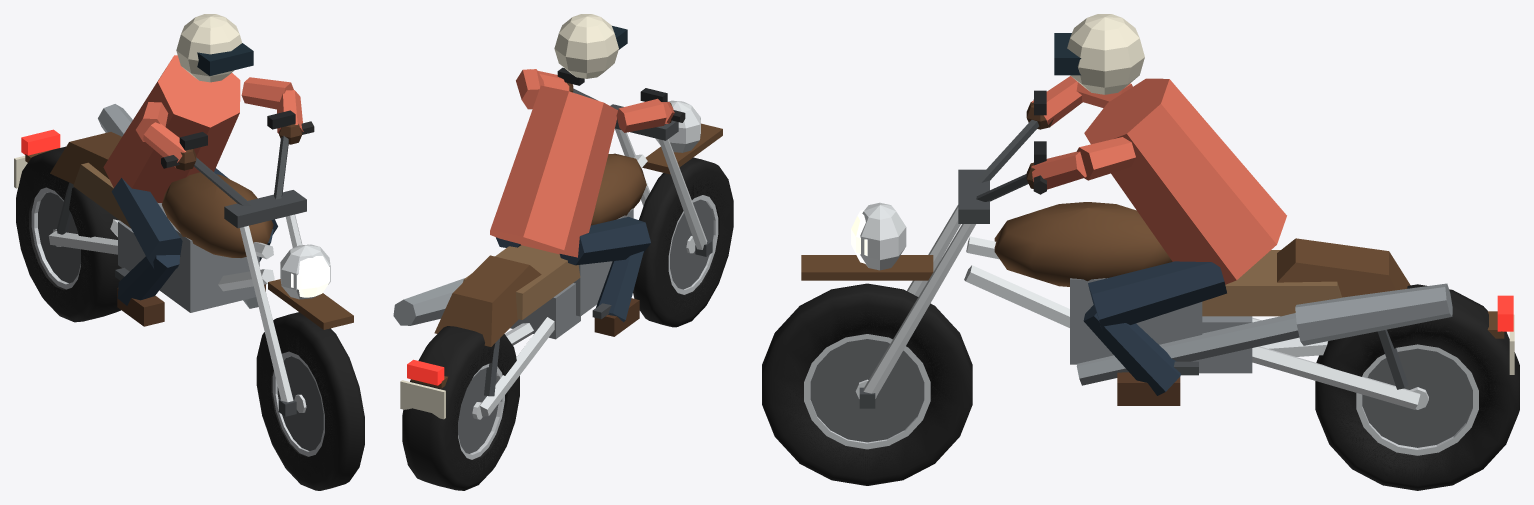
Rendered from oak-cruiser.glb.
3 views of the same model, side by side, from view 1: azimuth 30°, elevation 25°; view 2: azimuth 150°, elevation 25°; view 3: azimuth 270°, elevation 25° (orthographic). The views are drawn at different scales.
Parts seen in each view (by area): view 1: rider, frame, wheel_F, wheel_R, fork, headlight, taillight; view 2: rider, frame, wheel_R, wheel_F, fork, plate_R, headlight, taillight; view 3: frame, rider, wheel_F, wheel_R, fork, headlight.
Boxes of the visible parts, x1,y1,x2,y2 form: rider: (103,14,303,326); frame: (25,104,274,312); wheel_F: (256,312,364,490); wheel_R: (16,146,121,322); fork: (161,110,353,416); headlight: (280,244,330,299); taillight: (21,129,60,155); rider: (490,14,674,336); frame: (393,153,647,416); wheel_R: (402,326,519,490); wheel_F: (633,157,733,327); fork: (557,67,722,256); plate_R: (400,380,445,419); headlight: (655,100,700,152); taillight: (407,359,444,385); frame: (964,202,1504,409); rider: (1026,14,1286,405); wheel_F: (762,283,972,485); wheel_R: (1315,284,1519,490); fork: (801,90,1046,408); headlight: (851,202,906,270).
Bounding box in the file's own units: 0.6895 × 1.63 × 2.41.
